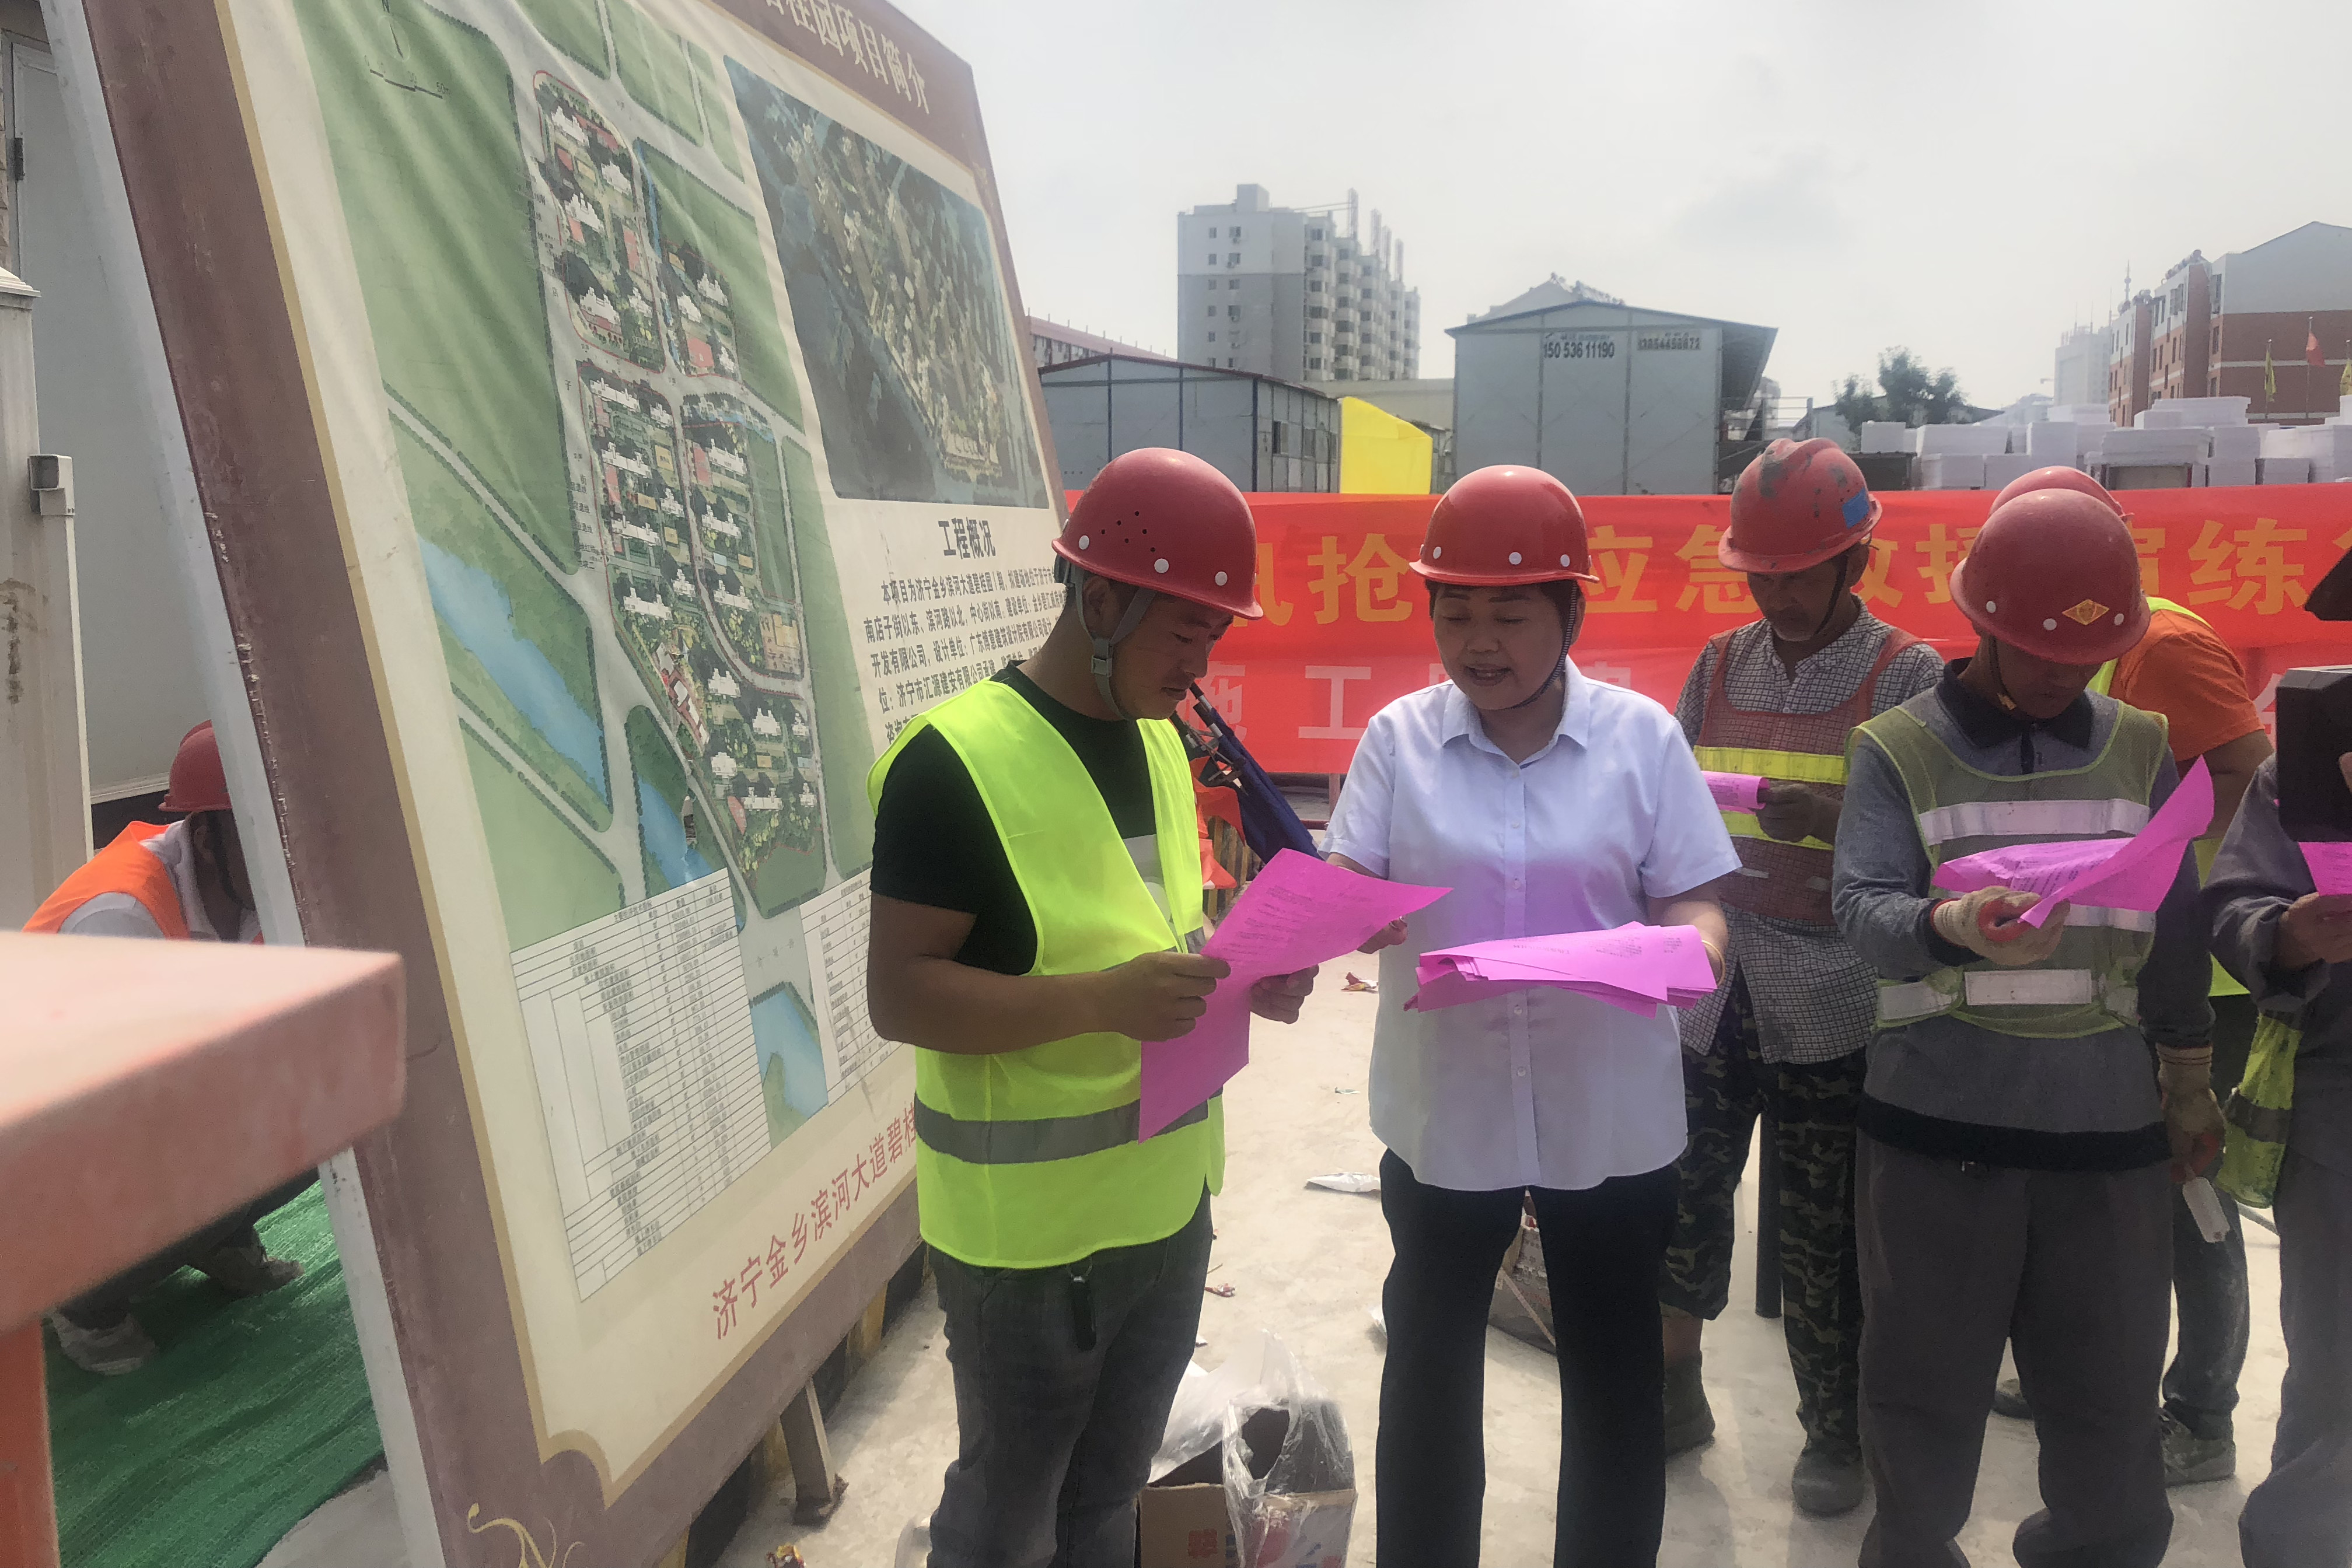safetyhat: (894, 437, 1344, 1556), (1363, 441, 1699, 1542), (1890, 467, 2236, 1519), (1694, 429, 1920, 903)
